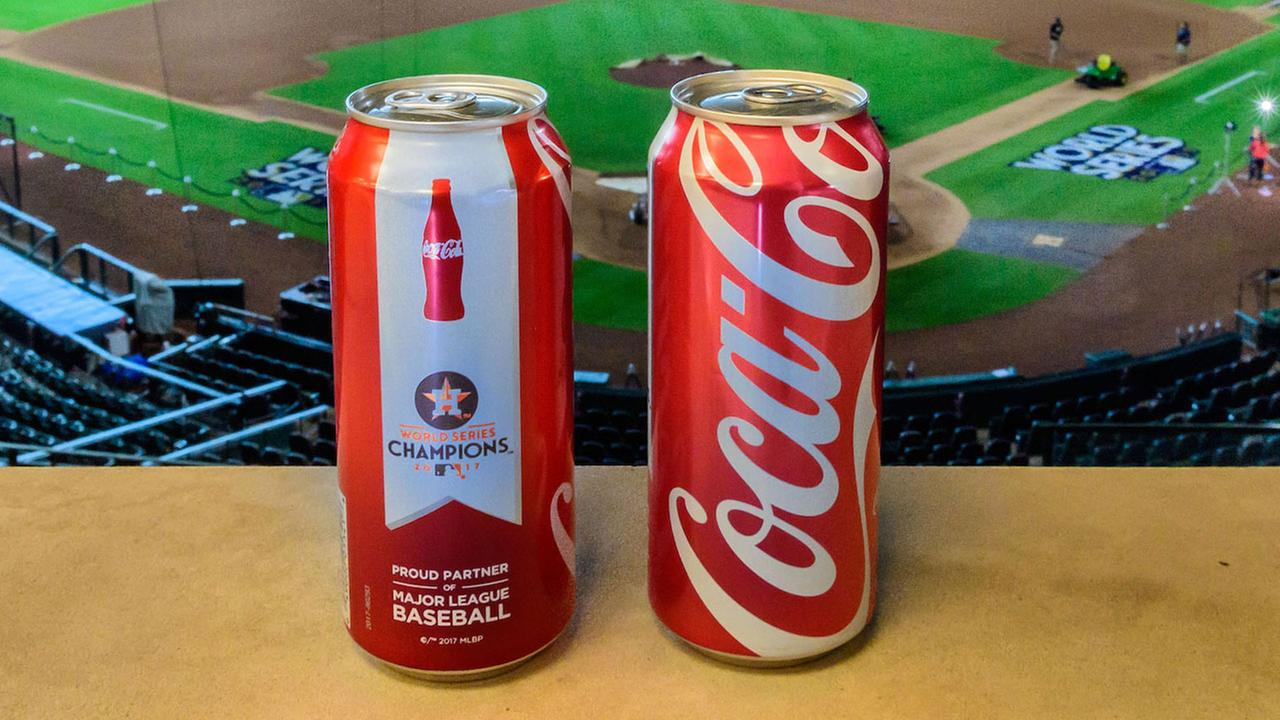coke: (335, 86, 584, 681), (644, 74, 892, 669)
